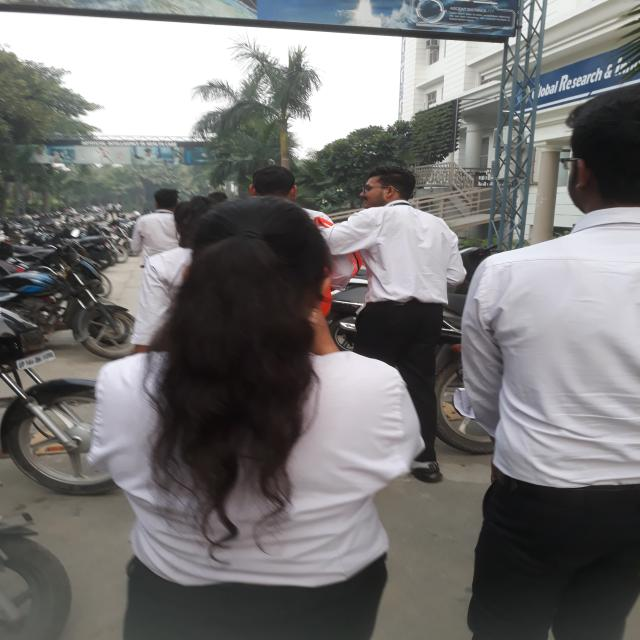unsafe: (118, 198, 416, 640), (463, 111, 640, 632), (348, 164, 458, 486), (134, 186, 179, 256)
